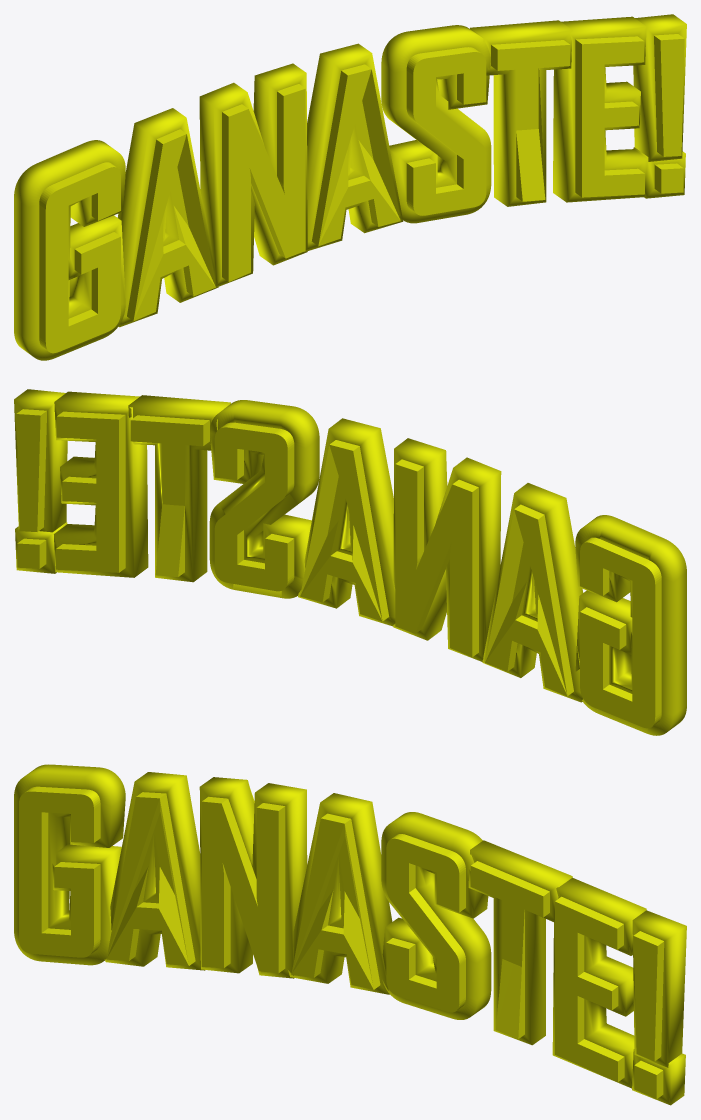
File: GANSTE.fbx
The picture shows the model from 3 angles, top to bottom: view 1: azimuth 30°, elevation 25°; view 2: azimuth 150°, elevation 25°; view 3: azimuth 330°, elevation 25°; orthographic projection.
Parts seen in each view (by area): view 1: Text; view 2: Text; view 3: Text.
Part boxes in pixels (x1,y1,x2,y2): Text: (14, 14, 686, 360); Text: (14, 389, 686, 735); Text: (14, 764, 686, 1105).
Bounding box in the file's own units: 277 × 91.69 × 19.64.
